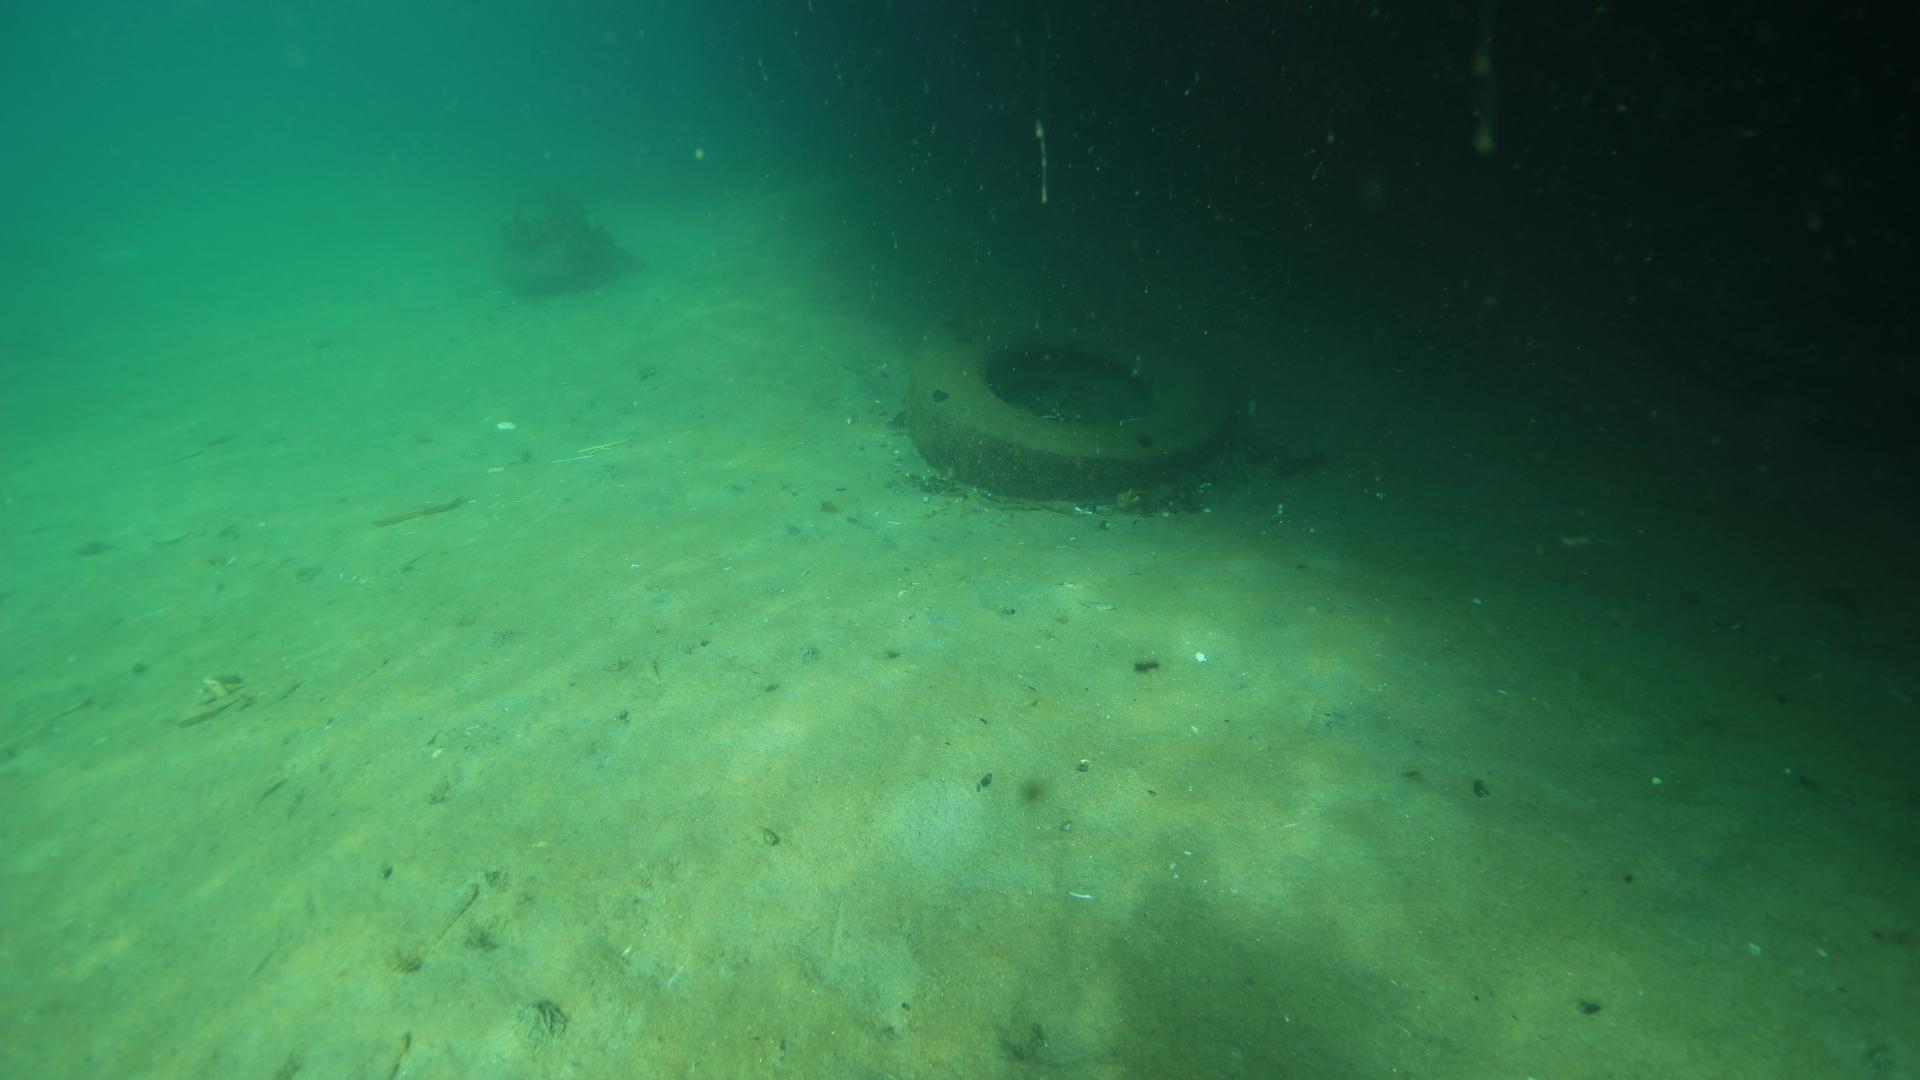tire: (899, 313, 1237, 508)
